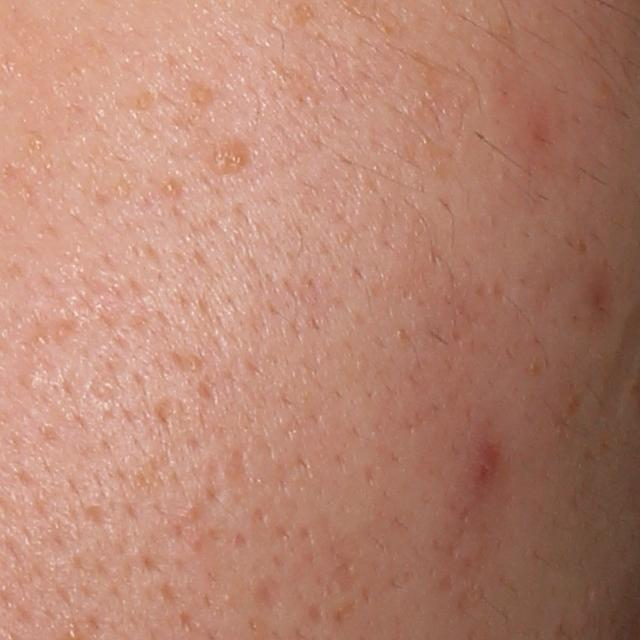atrophic_scar: (252, 576, 290, 616), (325, 561, 359, 598), (224, 444, 252, 481), (156, 400, 179, 429), (84, 506, 108, 533), (306, 600, 326, 628)
comedo: (161, 176, 179, 198)
papule: (463, 443, 502, 493)
